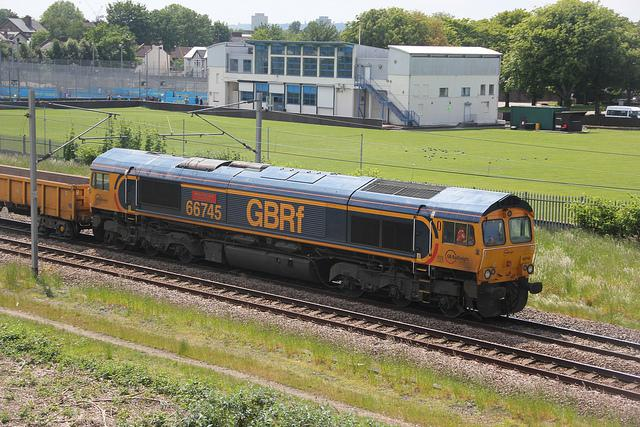Train: (42, 146, 537, 317)
